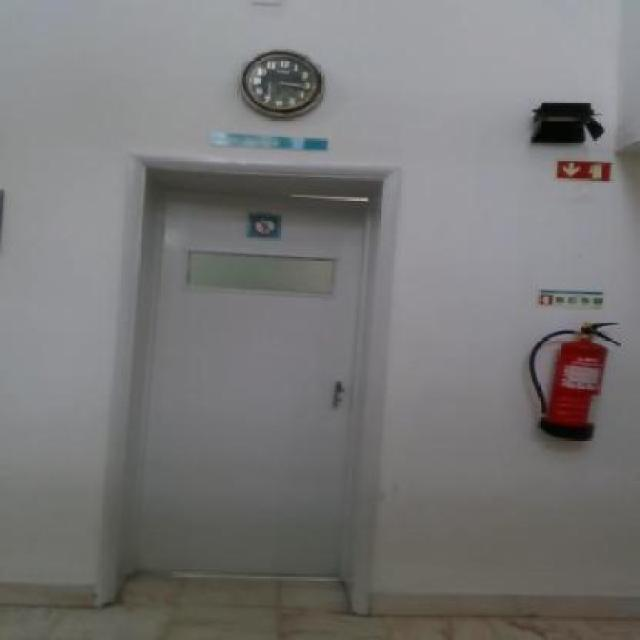door_handle: (323, 369, 347, 417)
